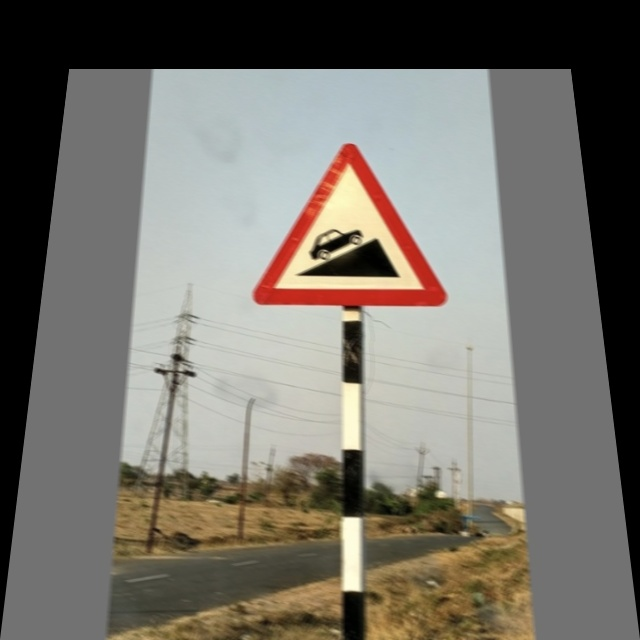Steep_Ascent: (256, 141, 442, 309)
